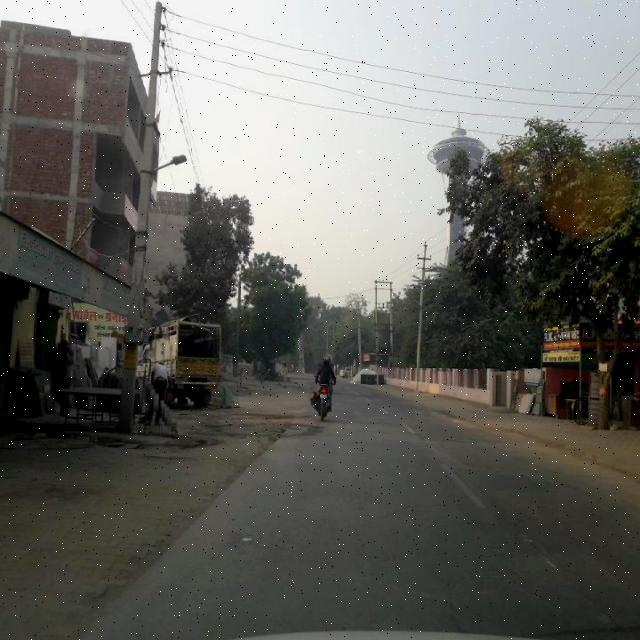D44: (438, 458, 486, 512)
